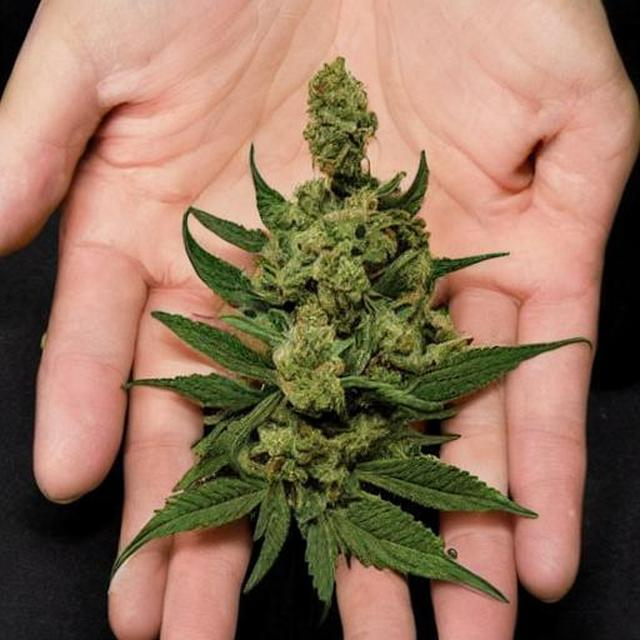Marijuana Joint: (164, 59, 511, 558)
